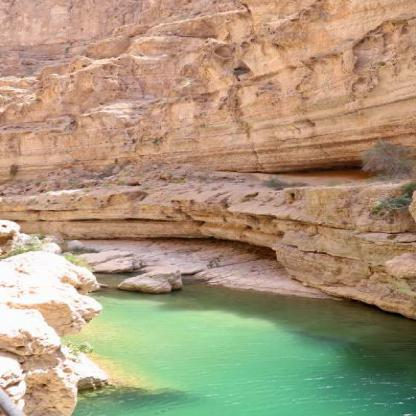Sedimentary_Sandstone: (1, 238, 89, 416), (1, 2, 127, 89), (292, 6, 406, 99), (139, 0, 263, 83), (330, 192, 406, 284), (148, 97, 240, 162), (27, 102, 130, 158), (305, 113, 395, 168), (116, 196, 197, 237), (231, 195, 295, 236), (12, 189, 86, 224)
